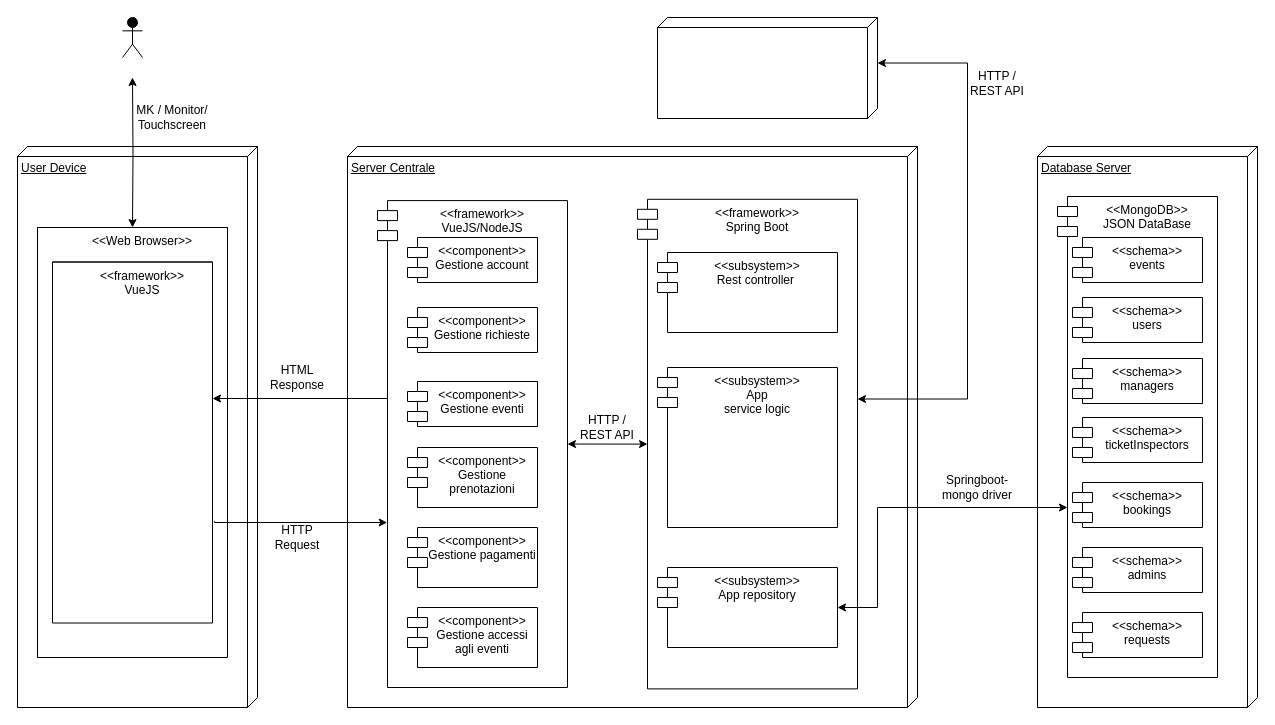
This 1275x725 diagram has some shape labels left out. The shapes that lost their labels are listed below. From the top down, each one's centre as x and y in pixels, then its label:
point 132,37: User
point 767,67: Payment Gateway
